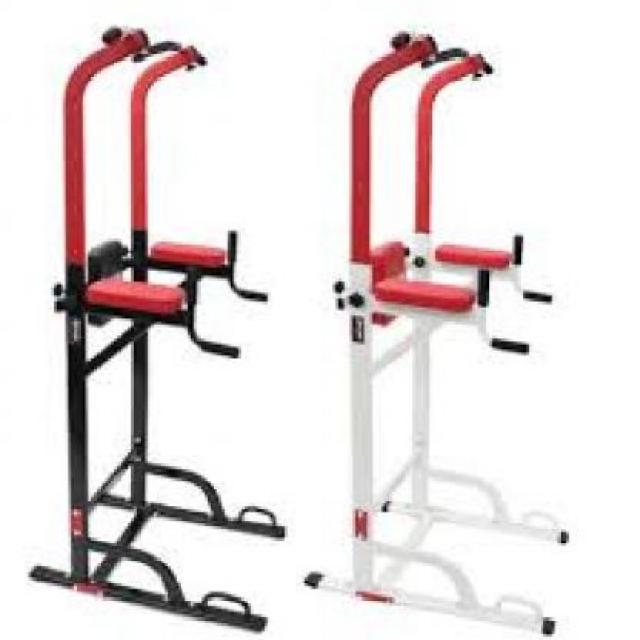chinning dipping: (303, 29, 569, 637), (28, 23, 286, 634)
